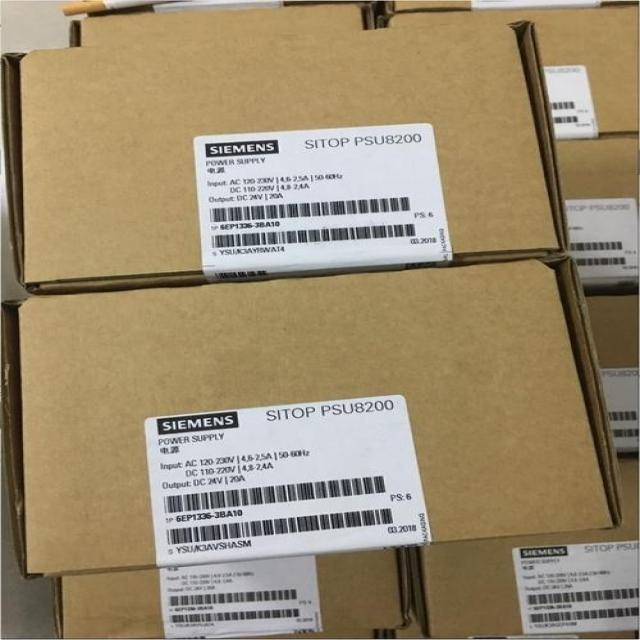box: (3, 255, 623, 579), (2, 15, 572, 296), (398, 460, 639, 637), (375, 4, 639, 138), (54, 546, 404, 639), (70, 2, 376, 48), (552, 134, 639, 275), (576, 274, 639, 462)
